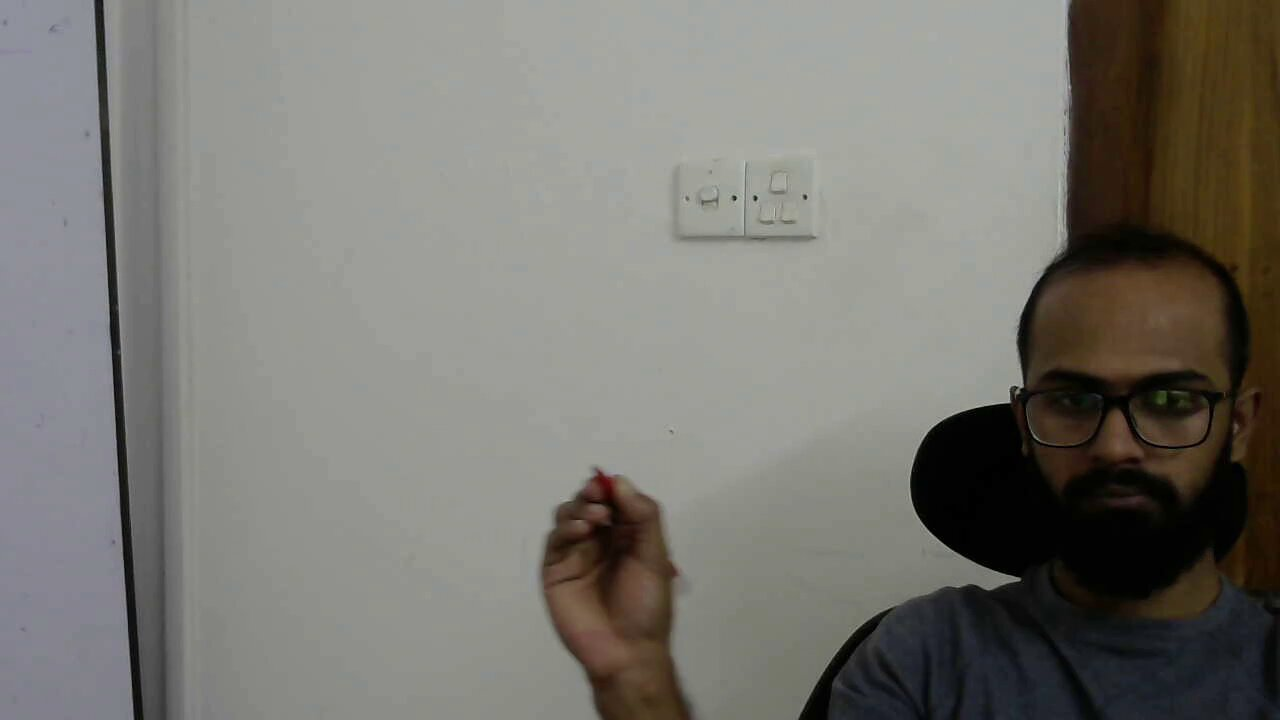pointer: (539, 464, 673, 607)
